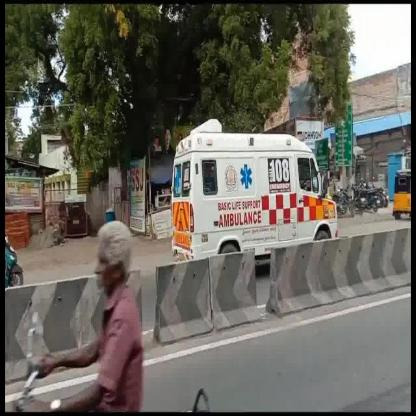priority: (170, 122, 338, 240)
